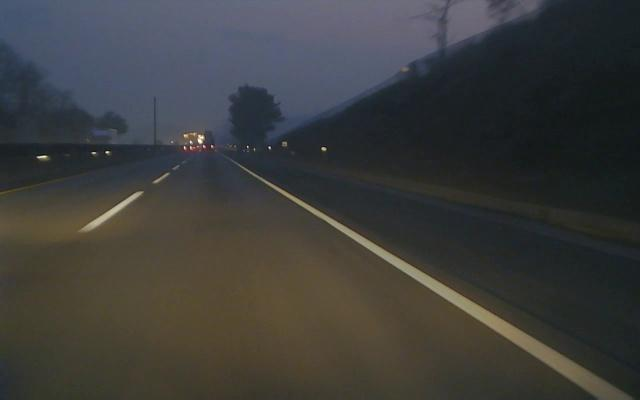lane: (241, 165, 640, 400), (63, 159, 191, 237)
